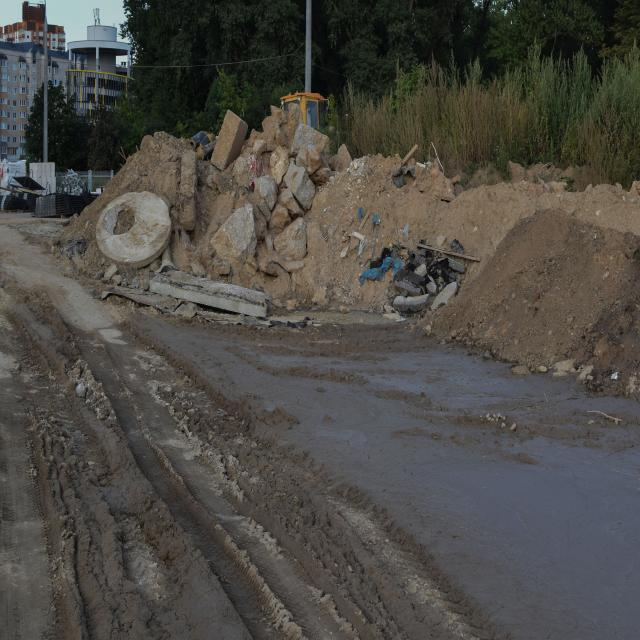entulho: (213, 99, 324, 268), (142, 267, 272, 325), (388, 232, 468, 322), (4, 158, 72, 218)
terra: (440, 188, 640, 390), (63, 124, 213, 274), (333, 144, 471, 270)
